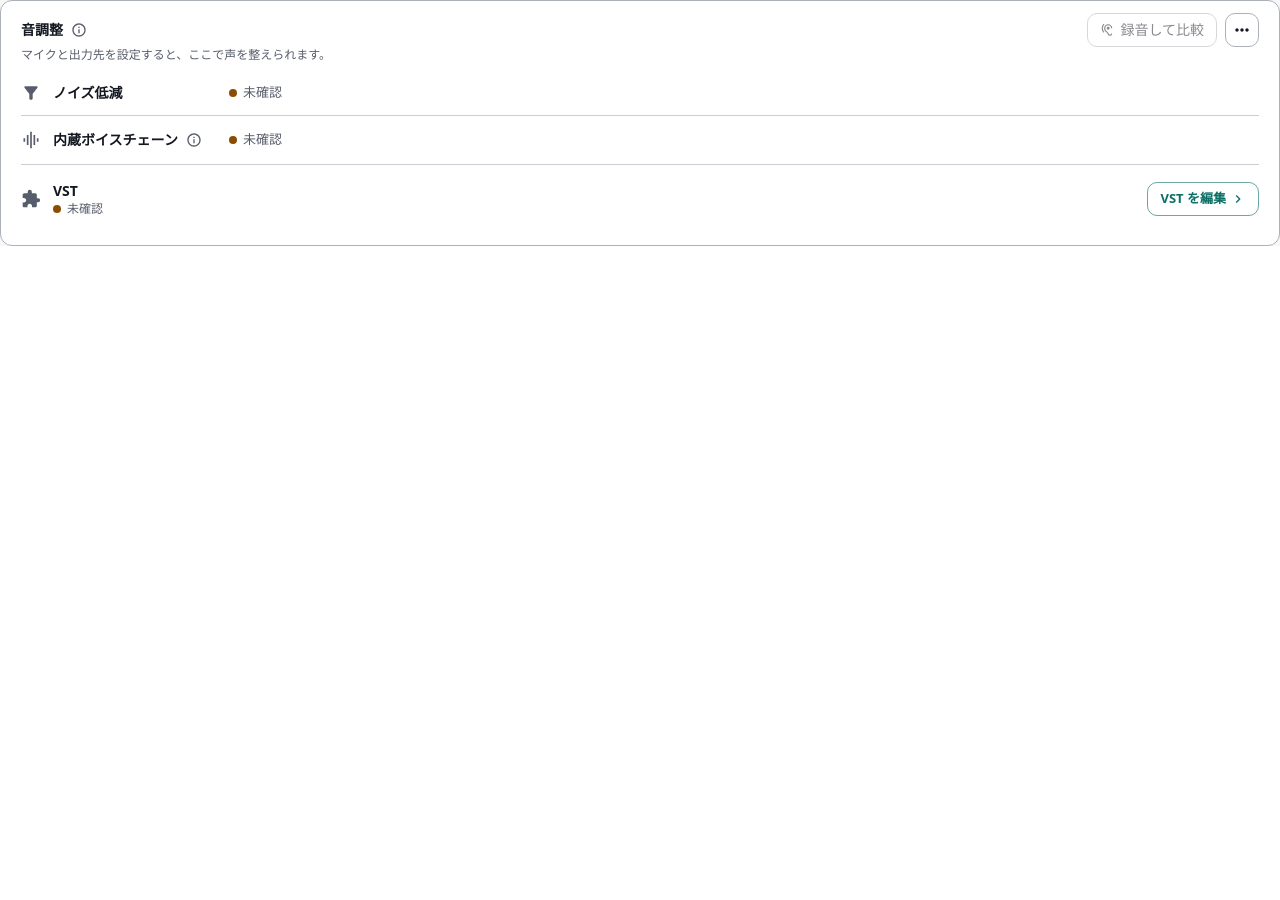
Test case: 内蔵ボイスチェーンの意味を見出し横の情報ボタンから確認できる
The width and height of the screenshot is (1280, 900).
Expected: the text "低音の整理・軽いコンプ・音色補正で声を聞きやすくします。" is not shown
Click the button named "内蔵ボイスチェーンの処理内容" at (194, 140), box [182,128,206,152]
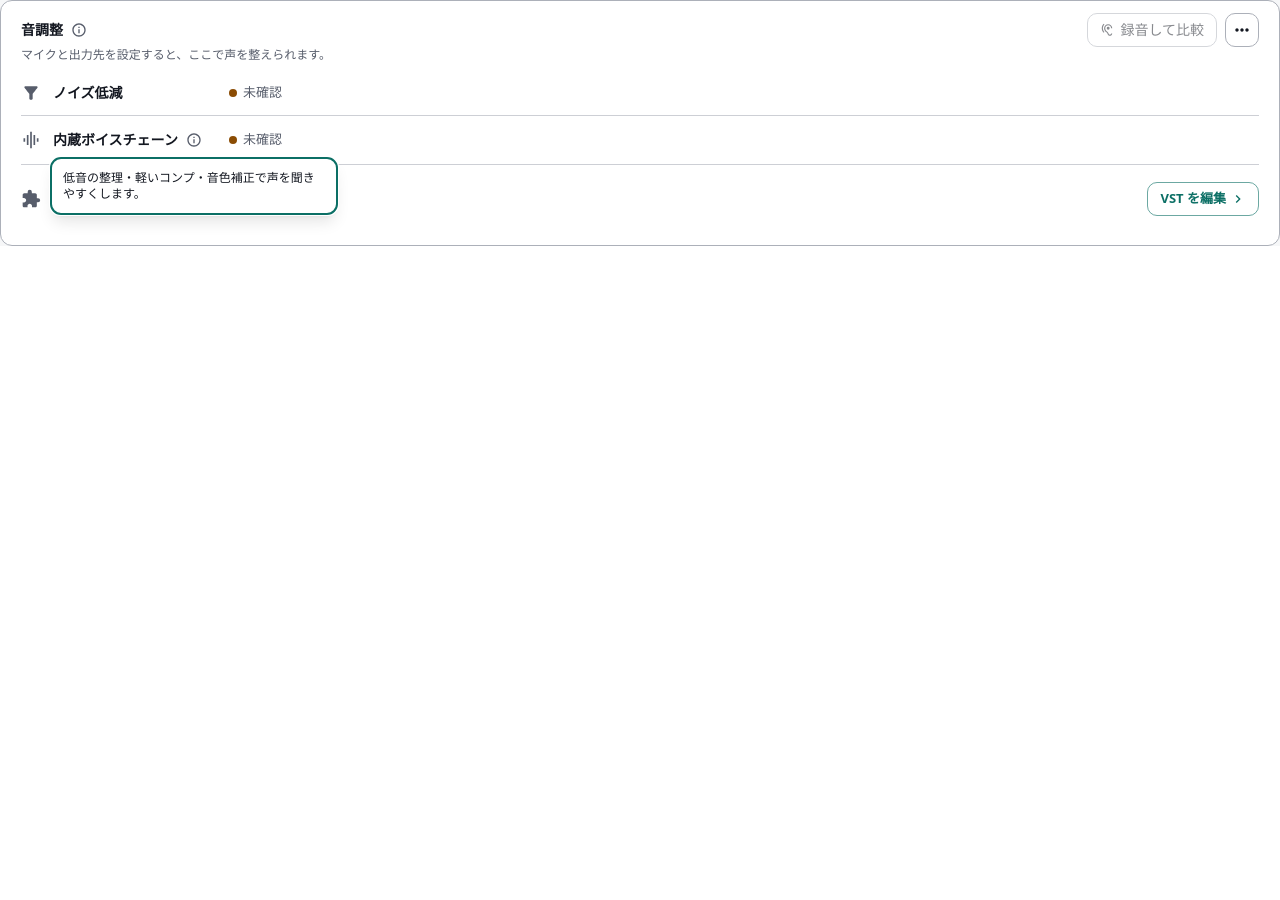
Expected: the heading "内蔵ボイスチェーン" is shown, [53,130,178,150]
Expected: the dialog named "内蔵ボイスチェーンの処理内容" reads "低音の整理・軽いコンプ・音色補正で声を聞きやすくします。", [63,169,315,202]
